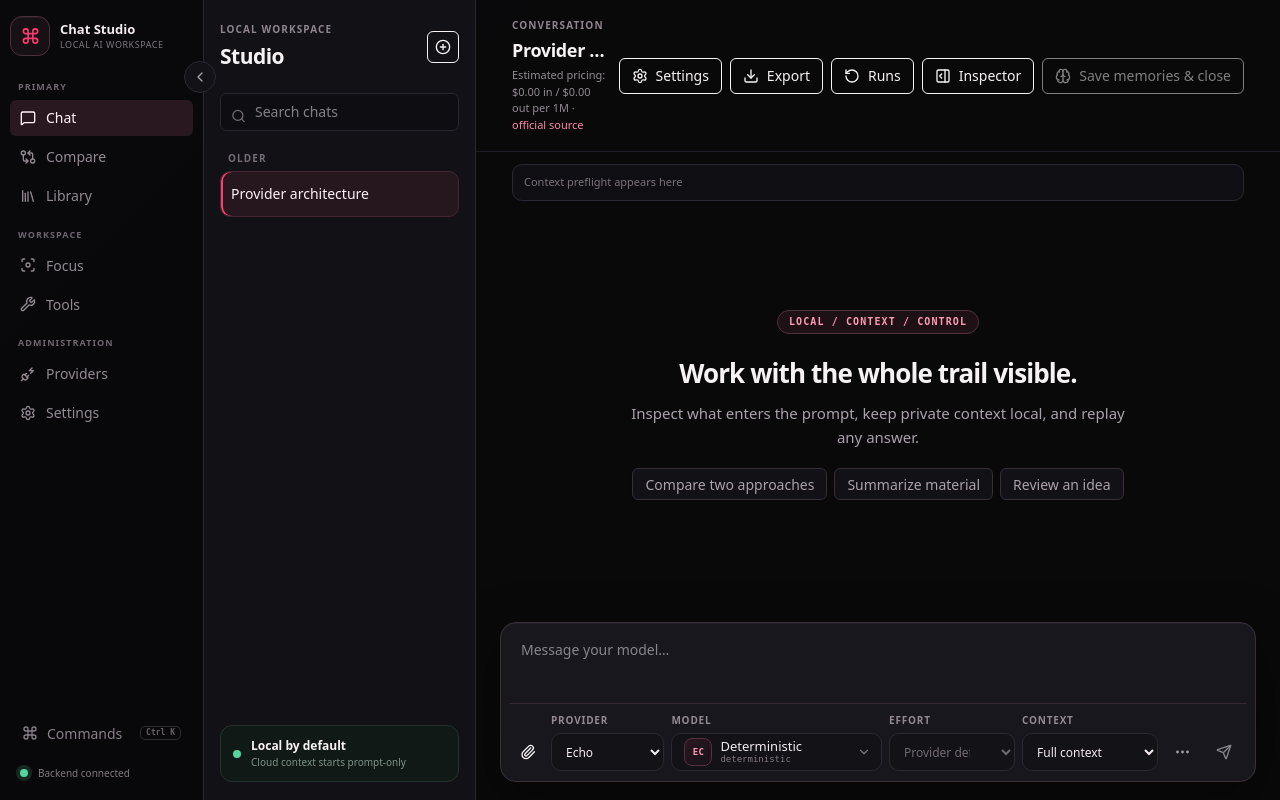
it: studio workspace › warns when context approaches the safe input budget
Expected: the heading "Provider architecture" is shown, [512, 37, 607, 64]
Expected: the text "Backend connected" is shown, [38, 766, 130, 780]
Type "use substantial context" into the text box labelled "Message" at (878, 667), box [509, 631, 1247, 703]
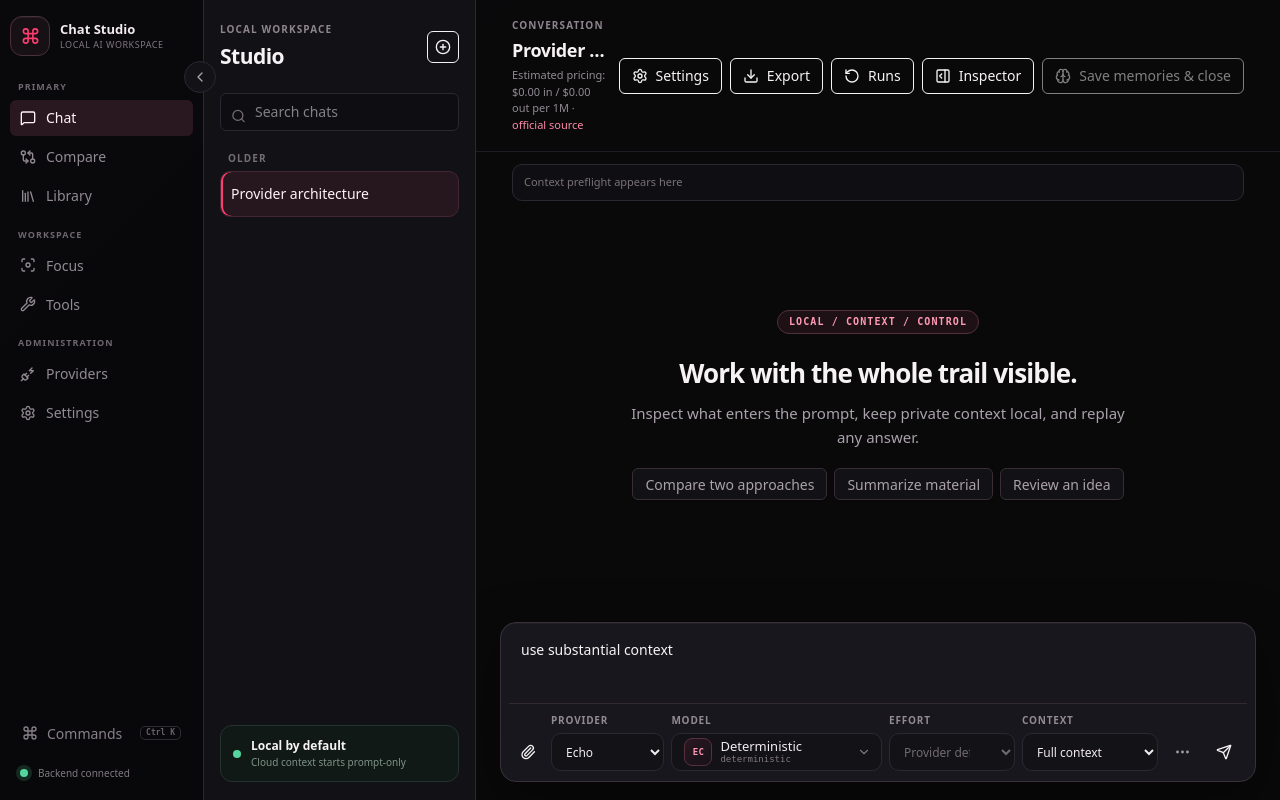
Click the button named "Send message" at (1224, 752), box [1206, 733, 1242, 771]
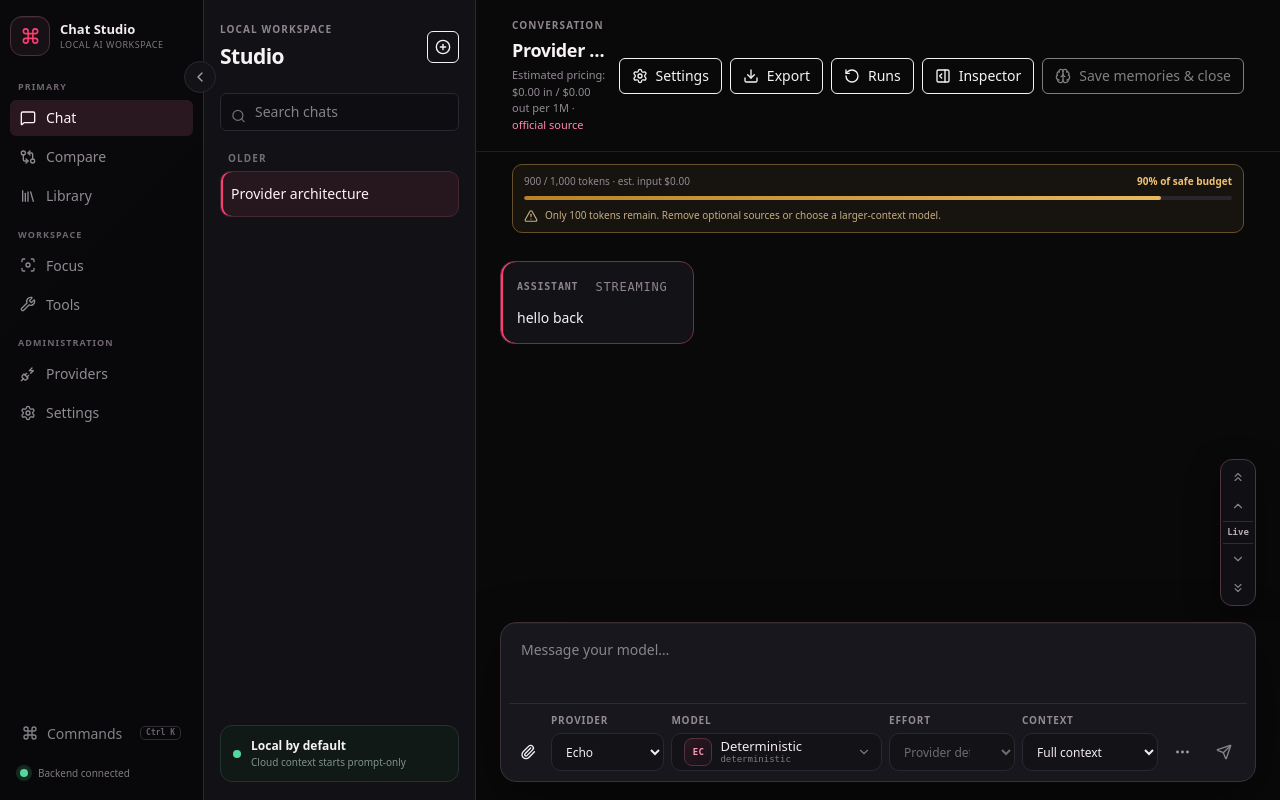
Now the text "90% of safe budget" is shown, box [1137, 174, 1232, 189]
Now the message shows "Only 100 tokens remain", box [545, 208, 941, 222]
